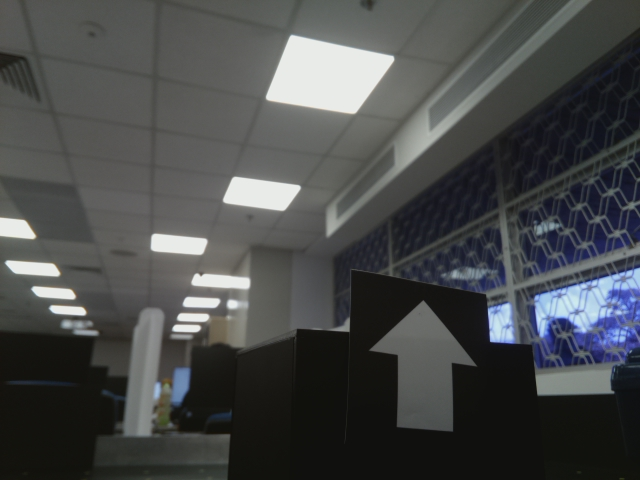up: (365, 292, 486, 442)
